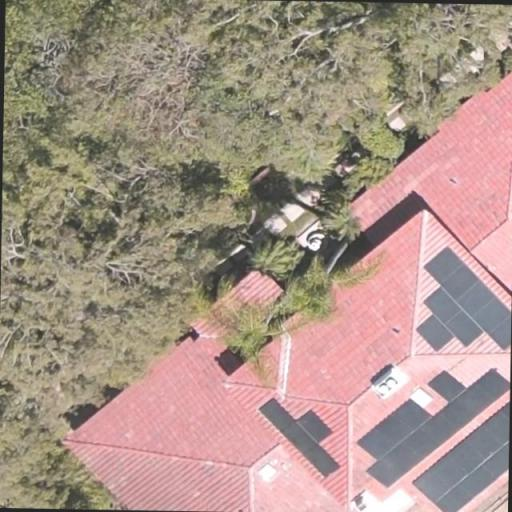solar-panel: (353, 367, 510, 488), (410, 399, 510, 512), (413, 244, 511, 351), (257, 397, 339, 478)
